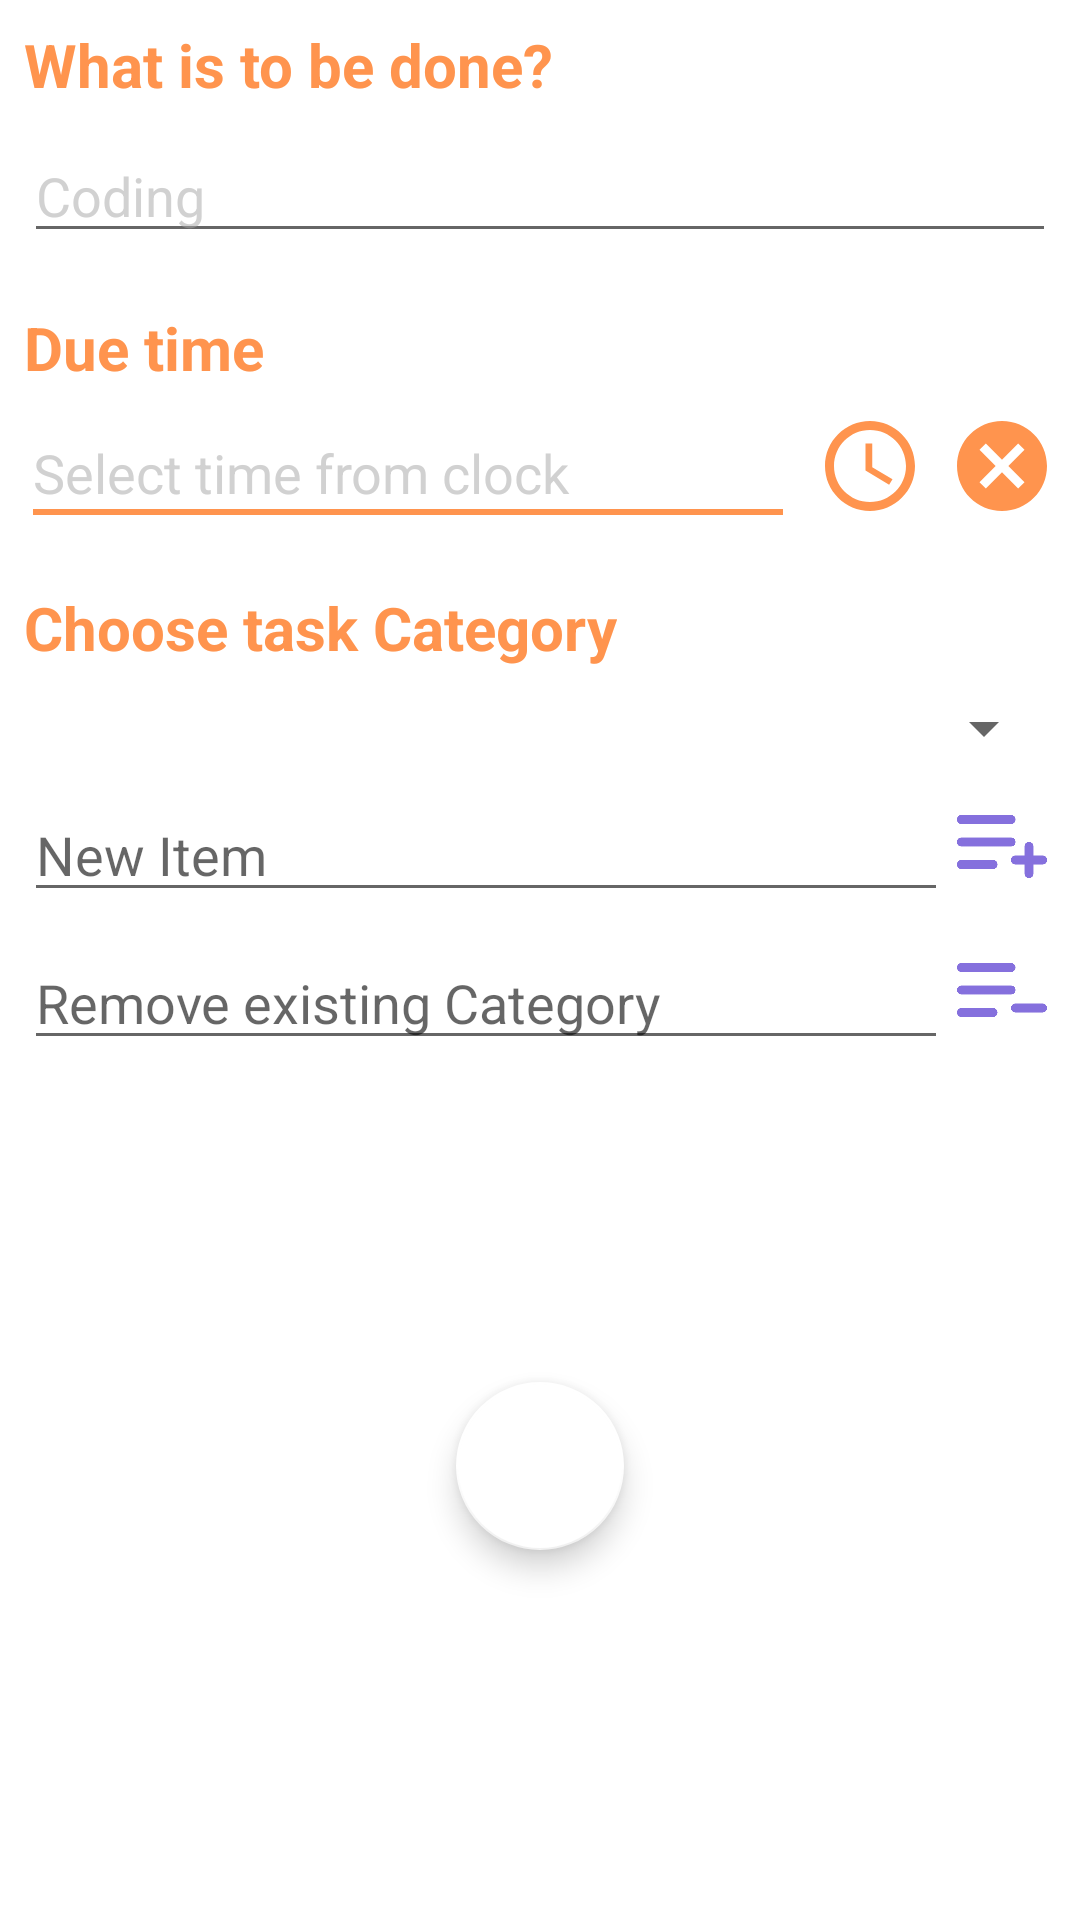

Icon click points for this 1080×1920 phone screenshot, format (x,y):
access time: (870,466)
add list: (1002,846)
cancel: (1002,466)
remove list: (1002,990)
